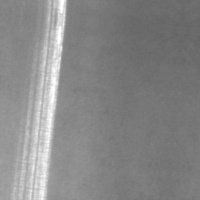scratches: (19, 18, 63, 196)
